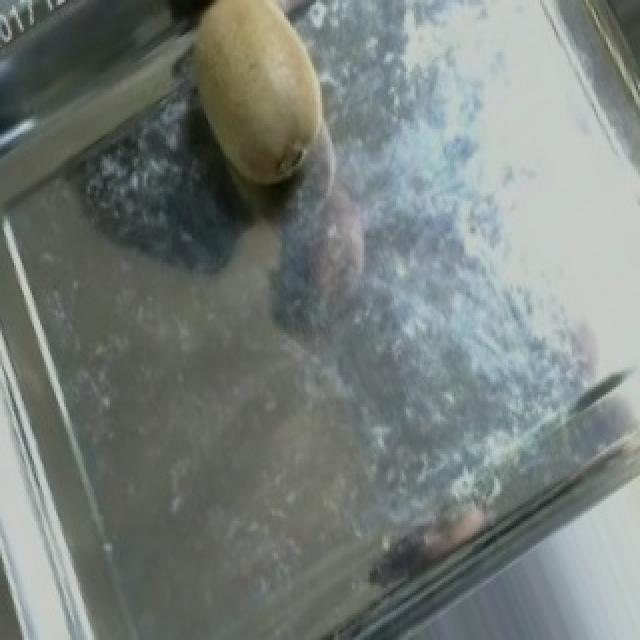Fruit: (154, 0, 364, 213)
